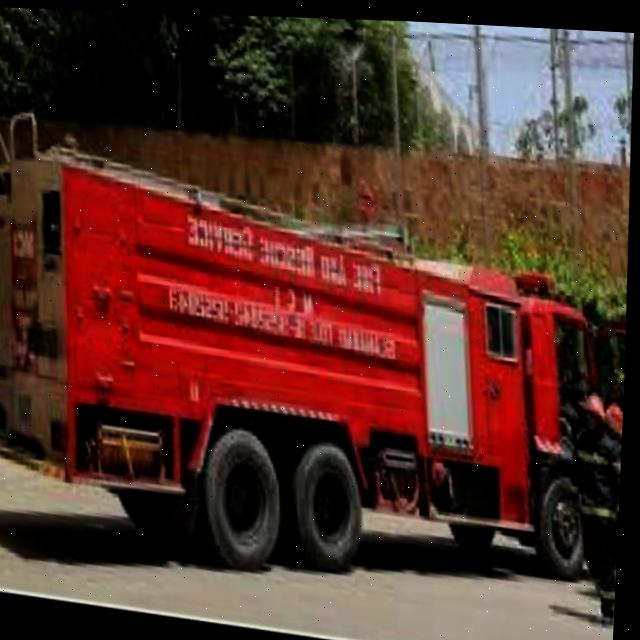emergency: (0, 96, 637, 588)
